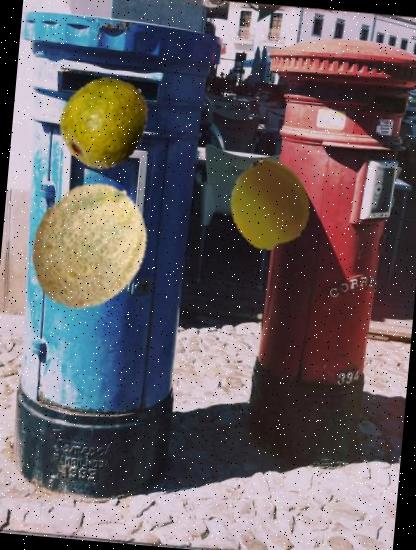Cantaloupe: (16, 174, 160, 318)
Guava: (54, 70, 157, 174)
Peach: (222, 156, 318, 252)
